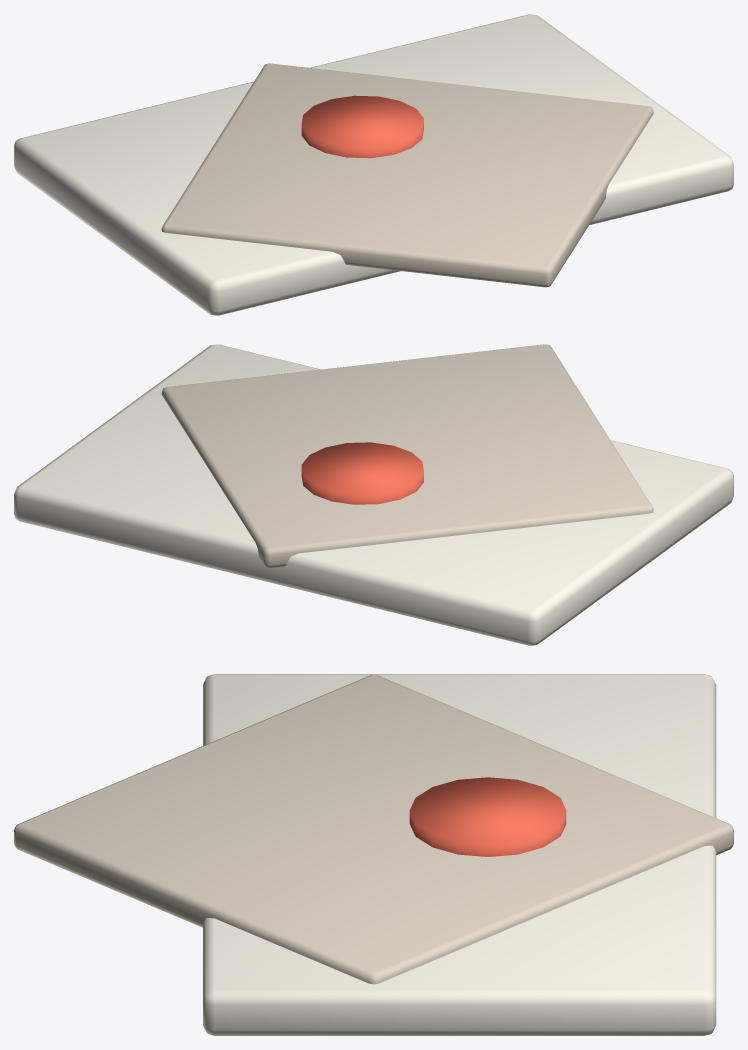
File: Doc_Envelope.fbx
3 views of the same model, one above another, from view 1: azimuth 30°, elevation 25°; view 2: azimuth 150°, elevation 25°; view 3: azimuth 270°, elevation 25° (orthographic). The views are drawn at different scales.
Visible parts, largest first — view 1: Envelope_Flap, Envelope_Body, Envelope_WaxSeal; view 2: Envelope_Flap, Envelope_Body, Envelope_WaxSeal; view 3: Envelope_Flap, Envelope_Body, Envelope_WaxSeal.
Boxes of the visible parts, bbox=[...] form: Envelope_Flap: bbox=[161, 63, 653, 287]; Envelope_Body: bbox=[14, 14, 733, 315]; Envelope_WaxSeal: bbox=[301, 95, 423, 158]; Envelope_Flap: bbox=[161, 344, 653, 568]; Envelope_Body: bbox=[14, 344, 733, 645]; Envelope_WaxSeal: bbox=[301, 442, 423, 504]; Envelope_Flap: bbox=[14, 675, 733, 984]; Envelope_Body: bbox=[203, 674, 716, 1035]; Envelope_WaxSeal: bbox=[409, 777, 566, 856].
Size of the model in its own units: 5.4 by 0.52 by 5.05.
